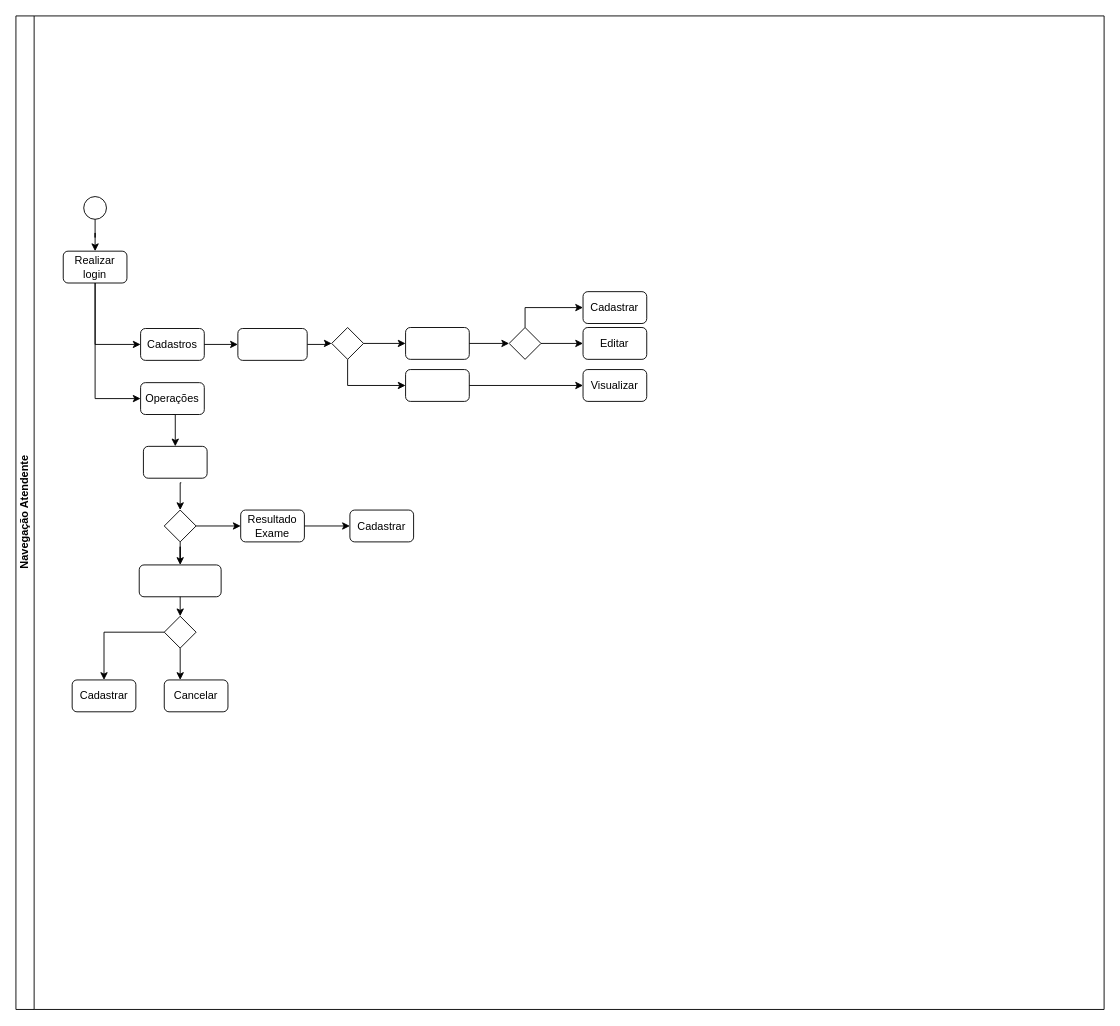
Image size: 1120x1026. Some labels were removed from this diagram. The shapes that lost their labels are listed below. From the top down, each one's centre as x and y in pixels, then its label:
At pixel 272 344: "Pacientes".
At pixel 437 343: "Paciente".
At pixel 437 385: "Histórico".
At pixel 175 461: "Atendimento".
At pixel 179 580: "Agendamento Consulta".
